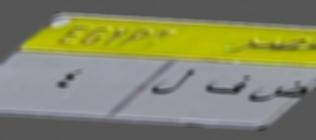4: (56, 61, 84, 93)
daad: (250, 80, 308, 106)
faa: (203, 70, 250, 95)
laam: (150, 66, 197, 96)
